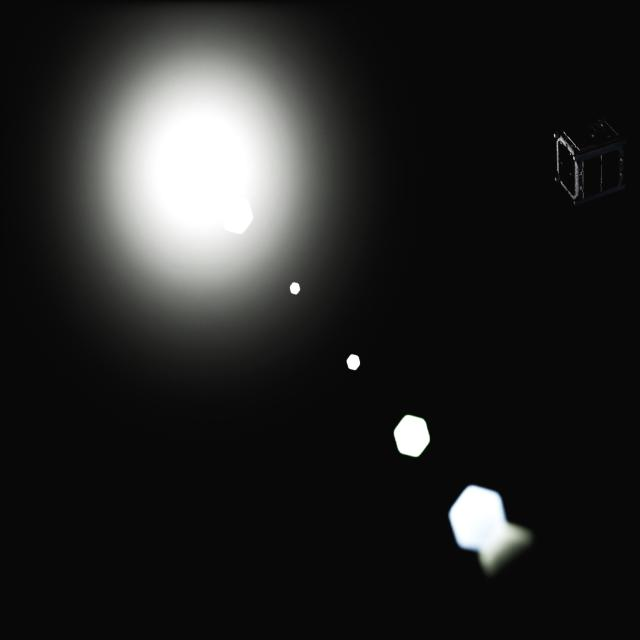satellite: (551, 119, 628, 209)
